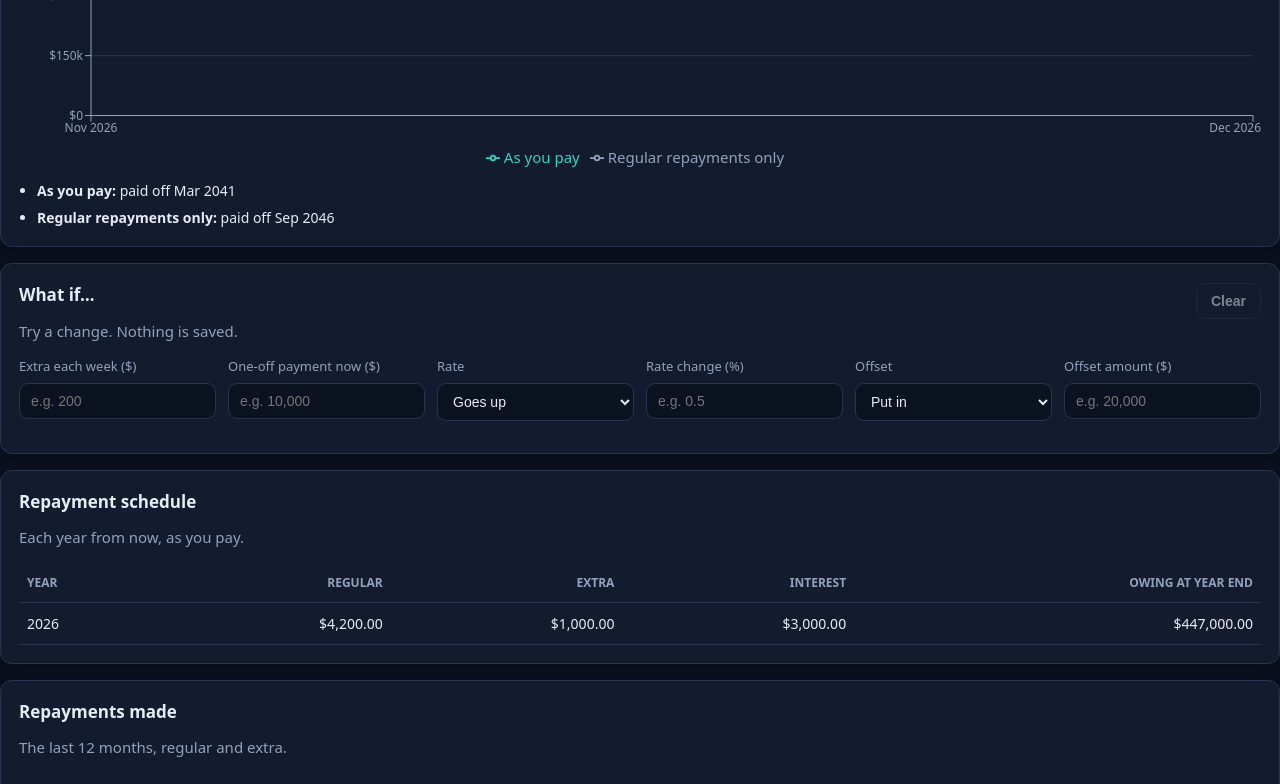
it: Mortgage page › tries a what-if without saving, once typing pauses
(page scrolled)
Type "200" into the field labelled "Extra each week ($)" at (118, 400), box [19,382,216,418]
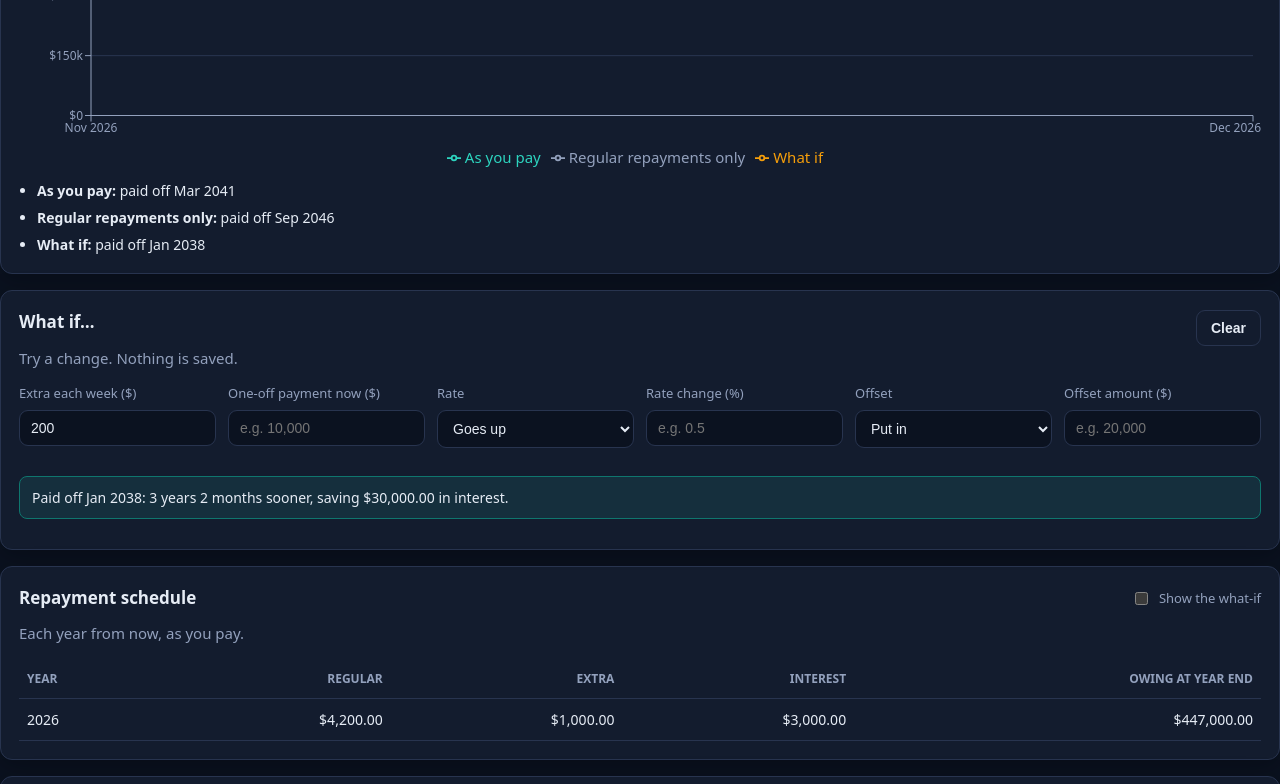
Expected: the text "Paid off Jan 2038: 3 years 2 months sooner, saving $30,000.00 in interest" is shown, [32,488,508,506]
Expected: the checkbox labelled "Show the what-if" is shown, [1135,592,1148,605]
